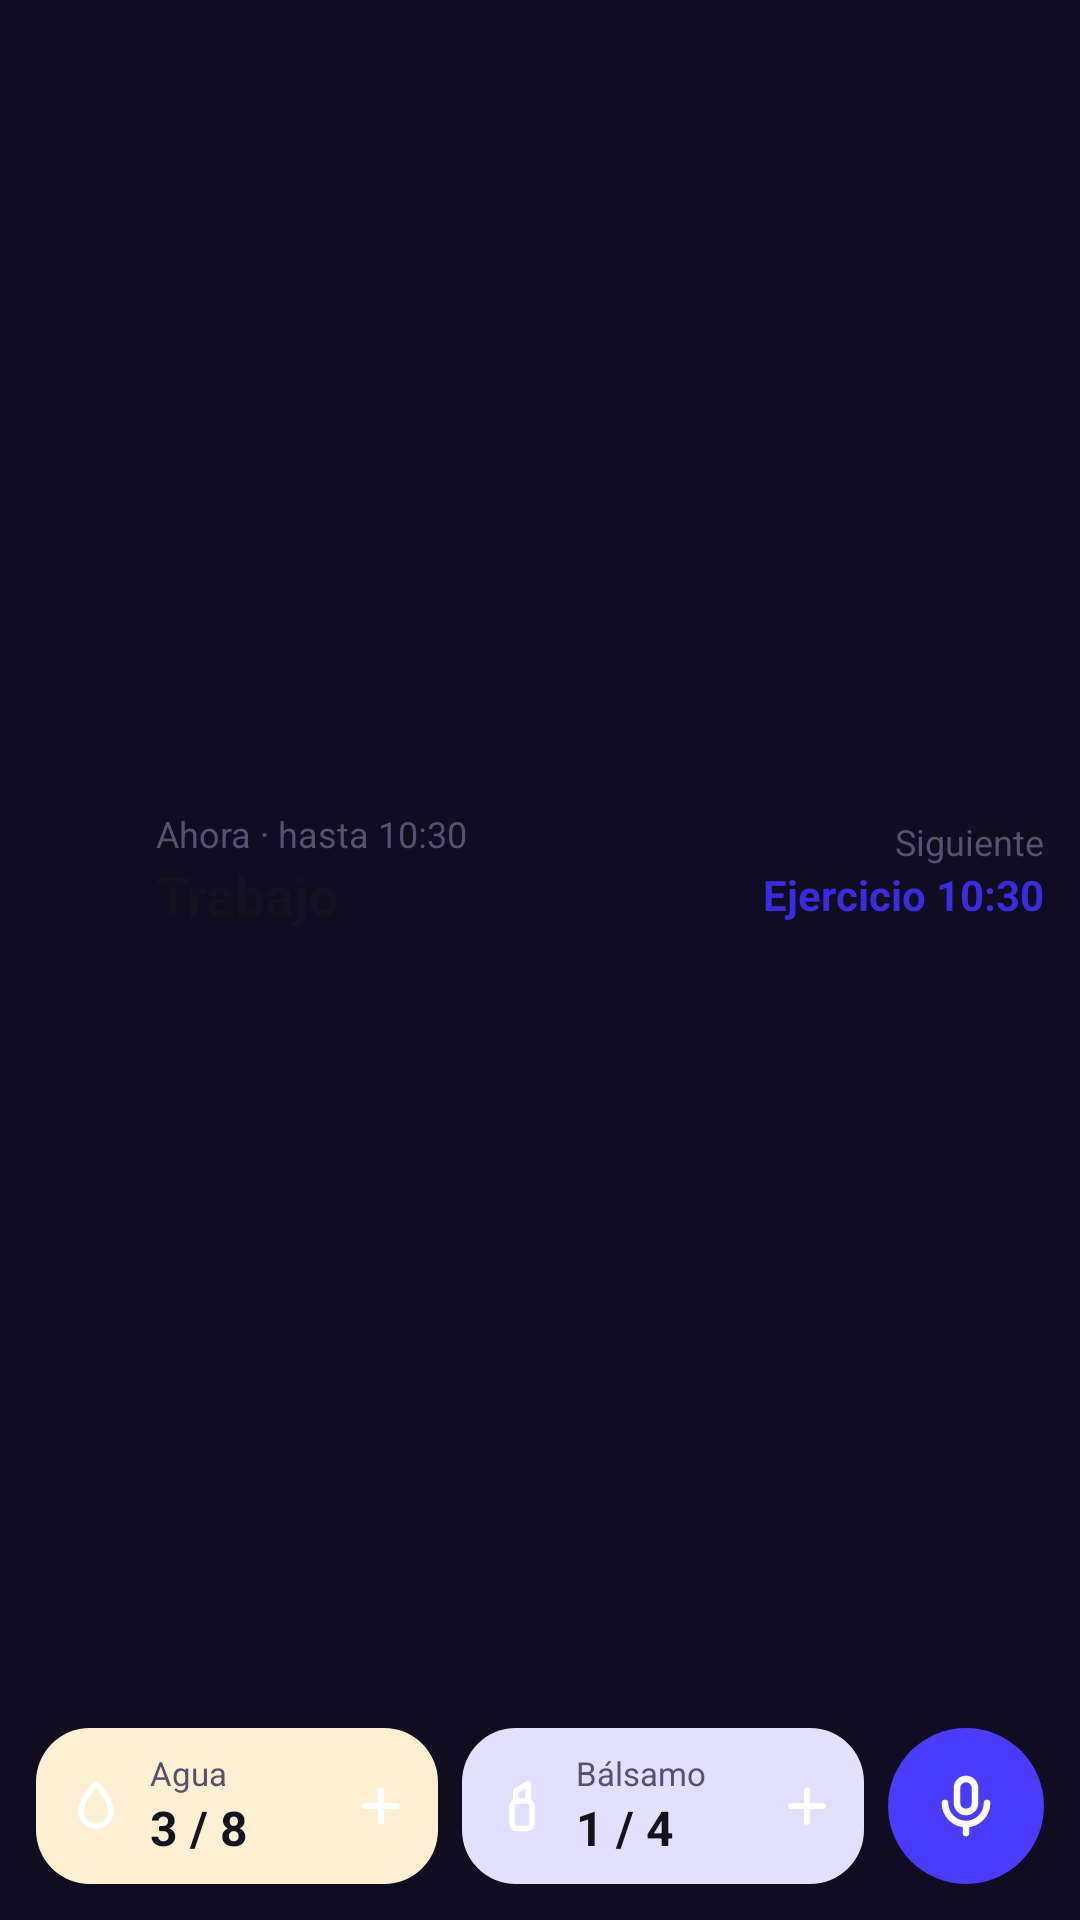

Where icons sit on this 1080x1920 app screen, as [x1, y1, x2, y2]:
Dictar con la voz: [888, 1728, 1044, 1884]
widget balm: [510, 1781, 534, 1831]
widget plus: [362, 1787, 400, 1825], [789, 1788, 825, 1824]
widget water: [78, 1781, 114, 1829]
